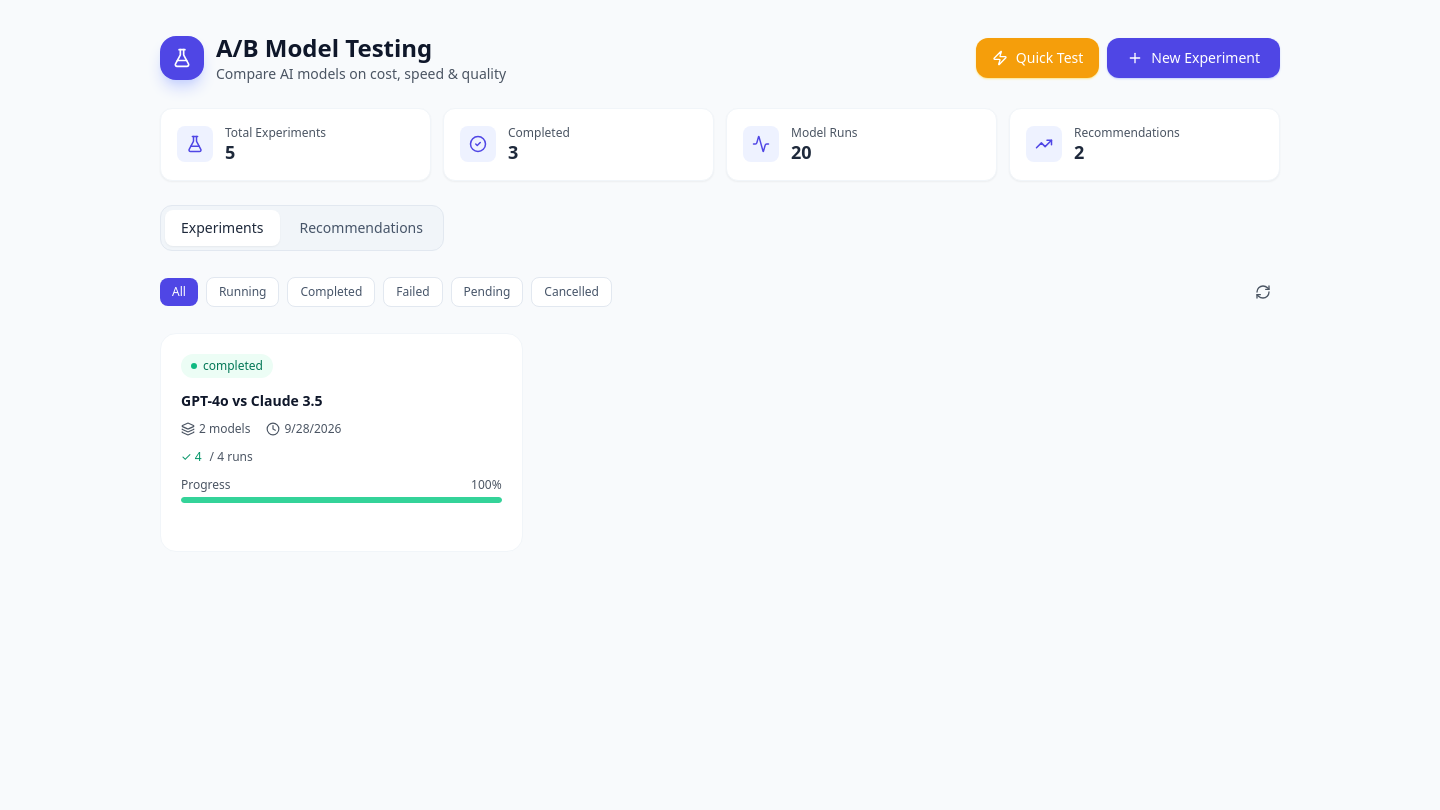
it: 12.7.2 — Create/edit/delete experiments works › quick test modal opens and shows models
Click the button "Quick Test".
click(1038, 58)  # box x1=976 y1=38 x2=1099 y2=78
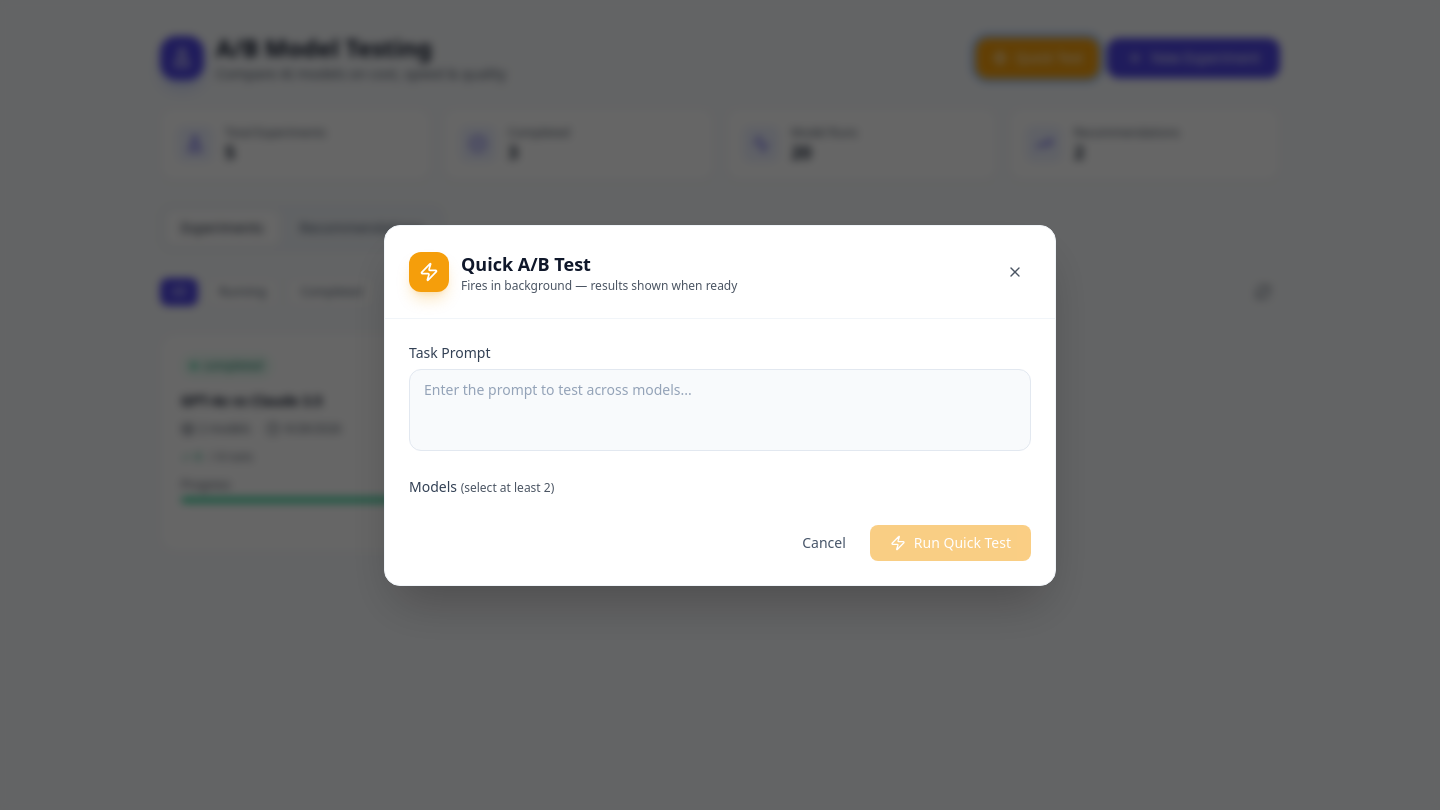
Result: the heading "Quick A/B Test" is shown at x1=461 y1=252 x2=591 y2=276
Result: the text box with placeholder "Enter the prompt to test across models..." is shown at x1=409 y1=368 x2=1031 y2=450
